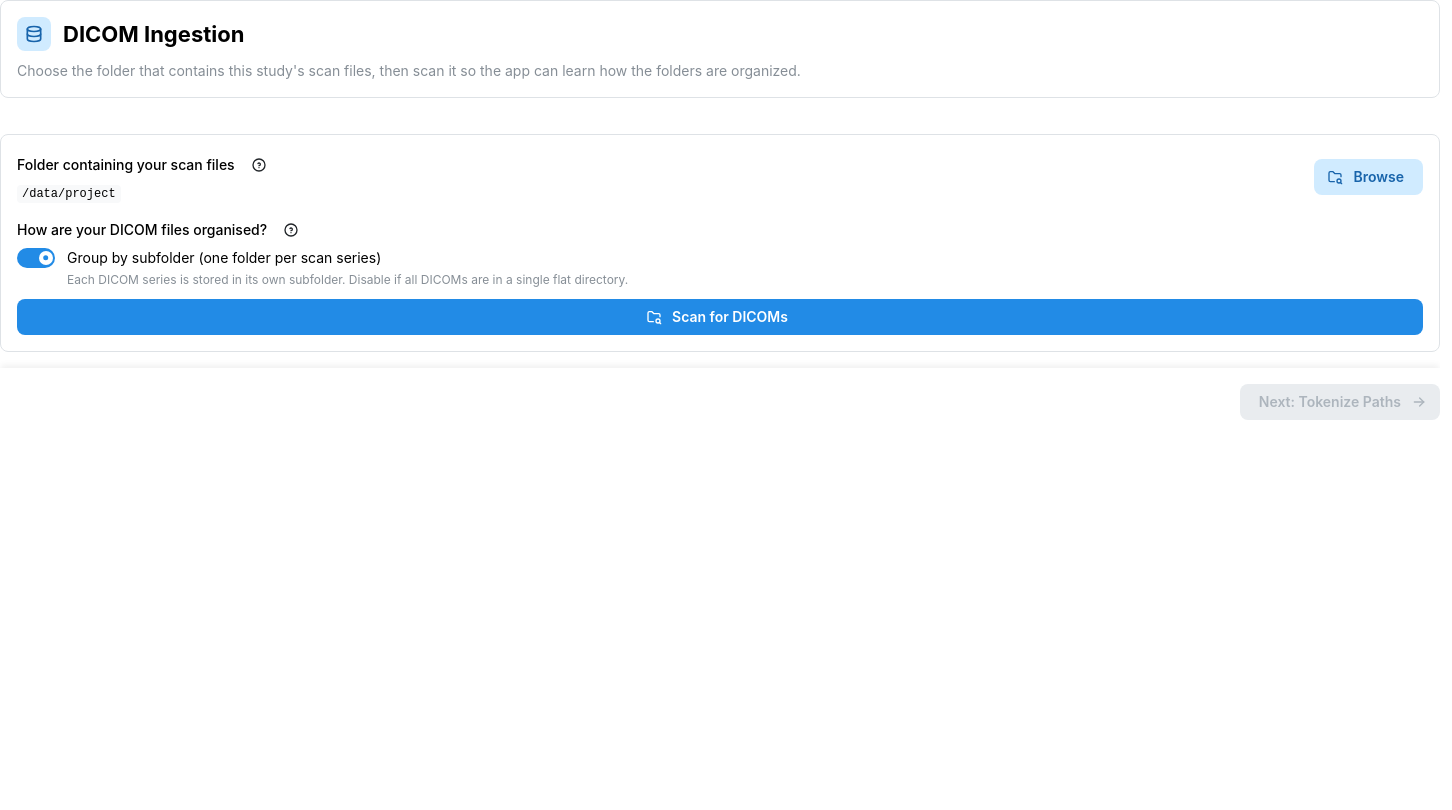
Test: DicomIngestion › does not use hardcoded dark surfaces for pattern previews
What coordinates should you click on to do the following:
click the button with test id "scan-dicoms-btn"
I would click on:
 (720, 318)
Its box is [17,300,1423,336].
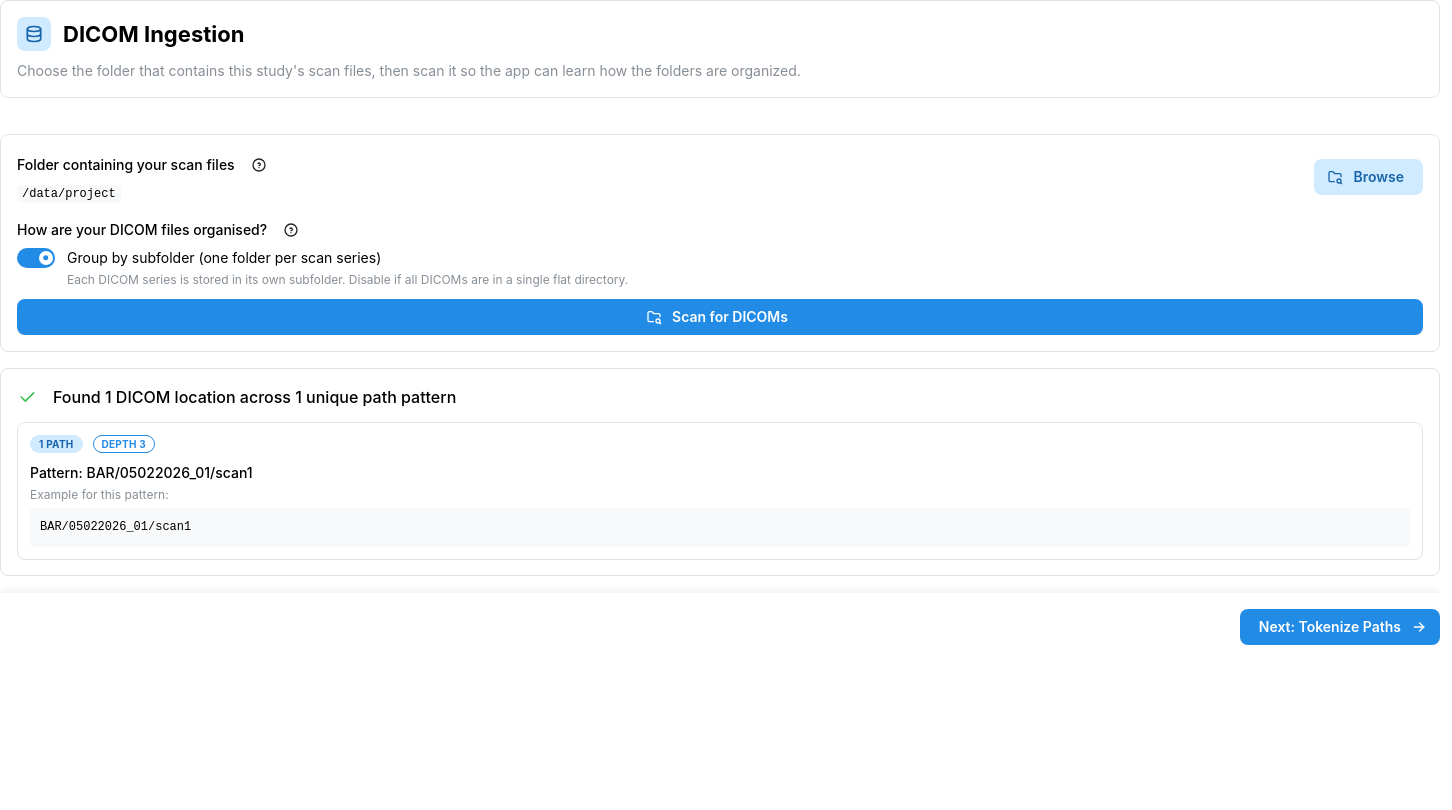
expect the text "Found 1 DICOM location across 1 unique path pattern" is shown: met, box [53,386,456,410]
